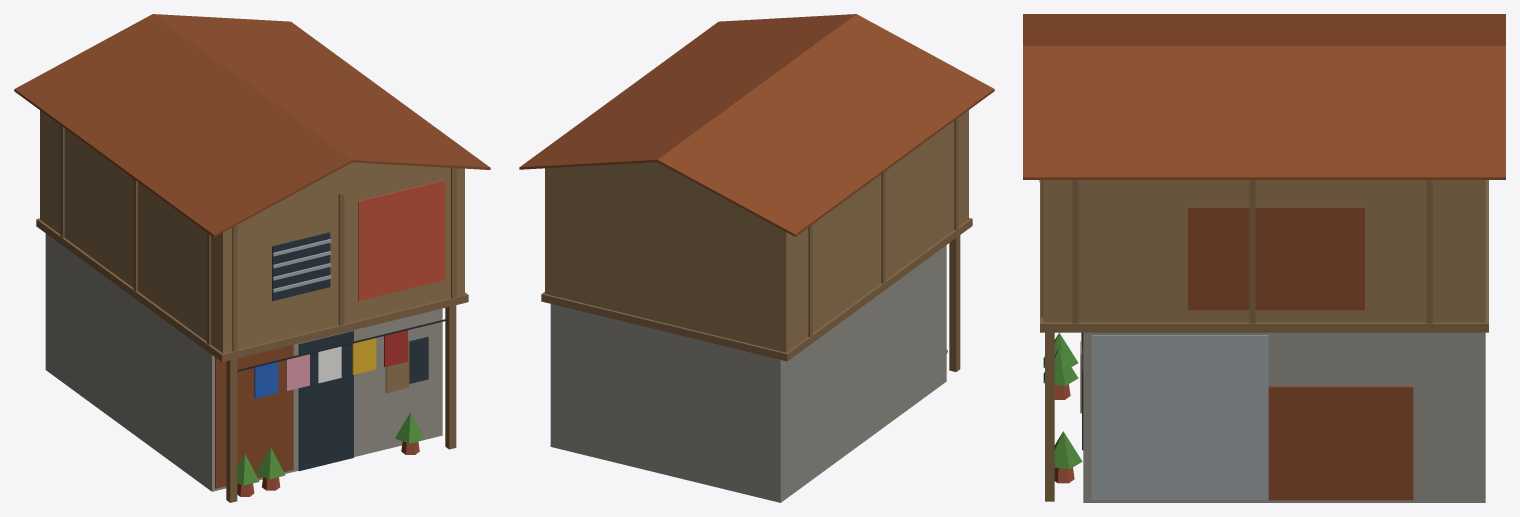
File: BAY_I_Shanty2F_J.glb
The picture shows the model from 3 angles, left to right: view 1: azimuth 30°, elevation 25°; view 2: azimuth 150°, elevation 25°; view 3: azimuth 270°, elevation 25°; orthographic projection. The views are drawn at different scales.
Visible parts, largest first — view 1: BAY_I_Shanty2F_J; view 2: BAY_I_Shanty2F_J; view 3: BAY_I_Shanty2F_J.
Part boxes in pixels (x1=…): BAY_I_Shanty2F_J: x1=14, y1=14, x2=490, y2=502; BAY_I_Shanty2F_J: x1=519, y1=14, x2=994, y2=502; BAY_I_Shanty2F_J: x1=1023, y1=14, x2=1505, y2=502.
Bounding box in the file's own units: 4.8 × 5.34 × 6.
Materials: 1 (1 with a texture image).
